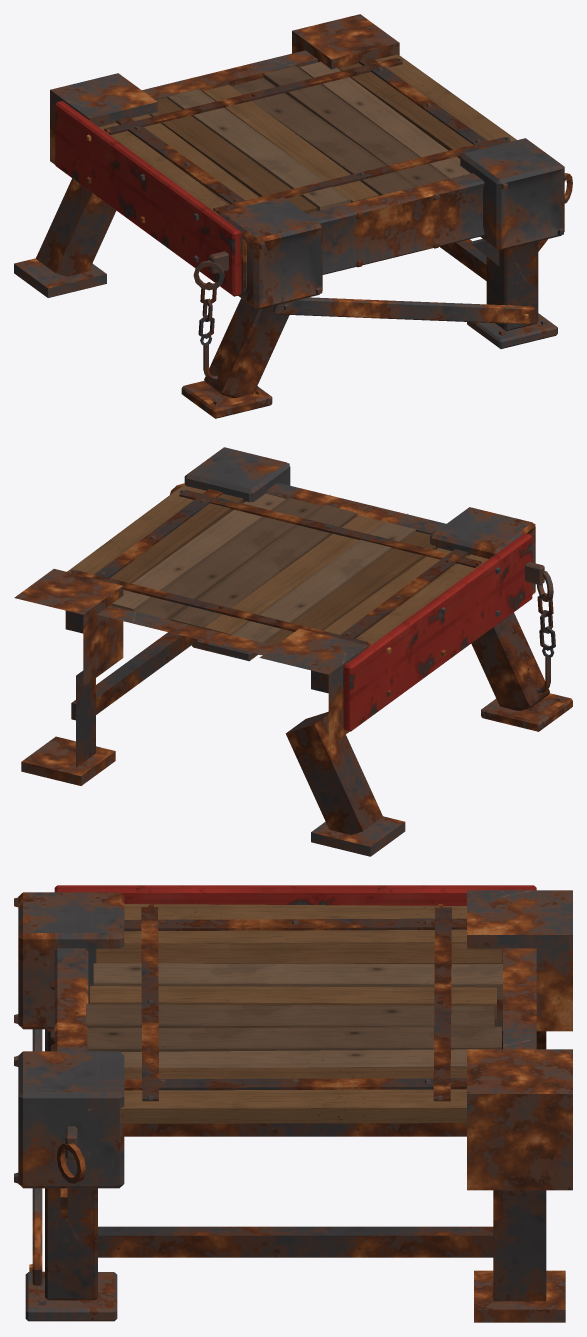
The model's file is Platform_End_L.glb.
3 renders of one model, top to bottom at view 1: azimuth 30°, elevation 25°; view 2: azimuth 150°, elevation 25°; view 3: azimuth 270°, elevation 25°, orthographic. The views are drawn at different scales.
Parts seen in each view (by area): view 1: Platform_End_L; view 2: Platform_End_L; view 3: Platform_End_L.
Part boxes in pixels (box(x1,y1,x2,y2)): Platform_End_L: box(14, 14, 572, 418); Platform_End_L: box(14, 447, 572, 856); Platform_End_L: box(14, 885, 572, 1322).
Bounding box in the file's own units: 2.45 × 1.06 × 2.32.
5 materials, 5 textured.
